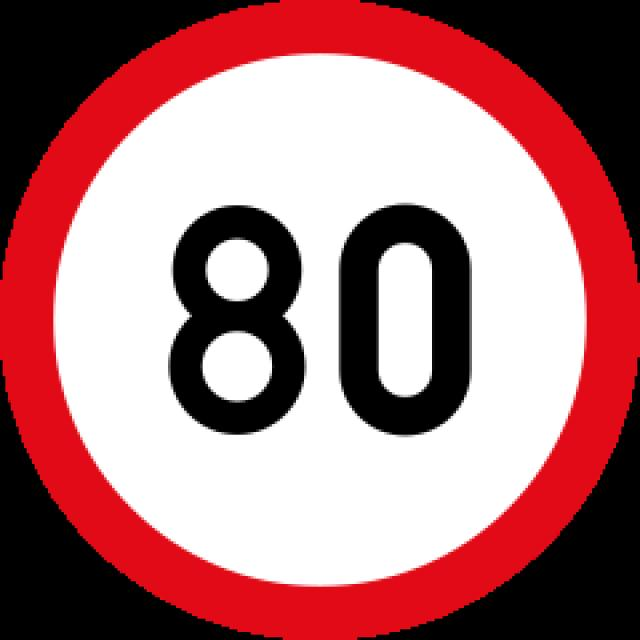Speed Limit -80-: (166, 202, 477, 439)
